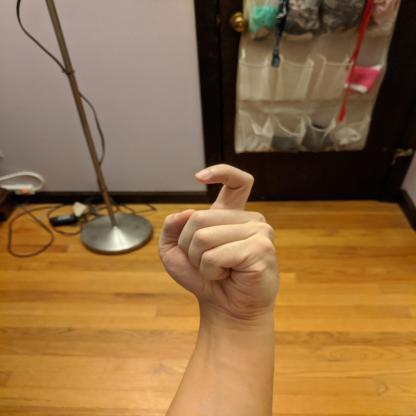X: (154, 160, 284, 317)
